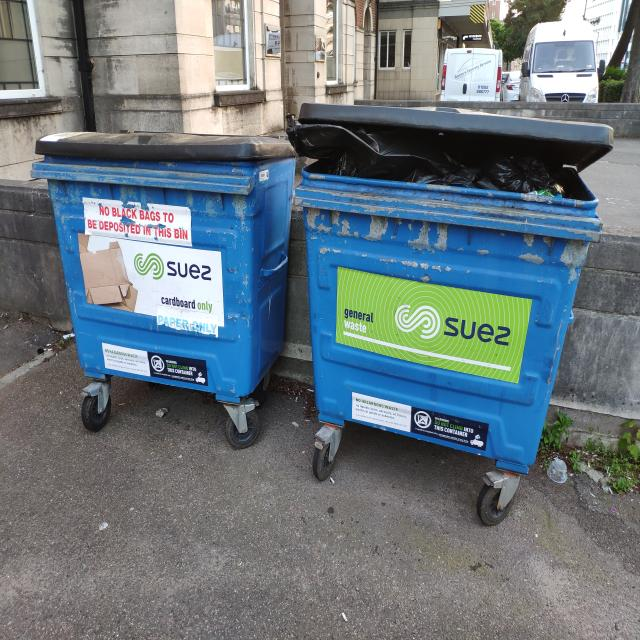lixo domiciliar: (288, 118, 496, 188), (494, 151, 568, 196)
